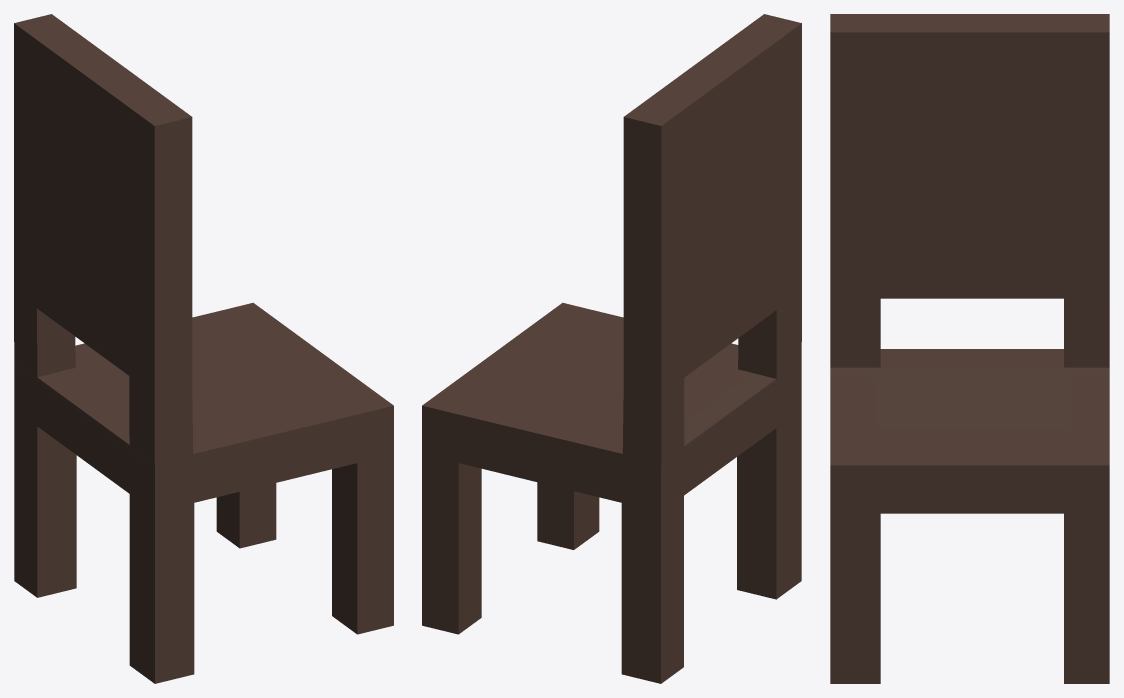
The model's file is chair.fbx.
The picture shows the model from 3 angles, left to right: view 1: azimuth 30°, elevation 25°; view 2: azimuth 150°, elevation 25°; view 3: azimuth 270°, elevation 25°; orthographic projection.
Visible parts, largest first — view 1: chair; view 2: chair; view 3: chair.
Boxes of the visible parts, x1,y1,x2,y2 form: chair: [14, 14, 393, 683]; chair: [422, 14, 801, 683]; chair: [830, 14, 1109, 683].
Size of the model in its own units: 12.17 by 27.13 by 12.39.
